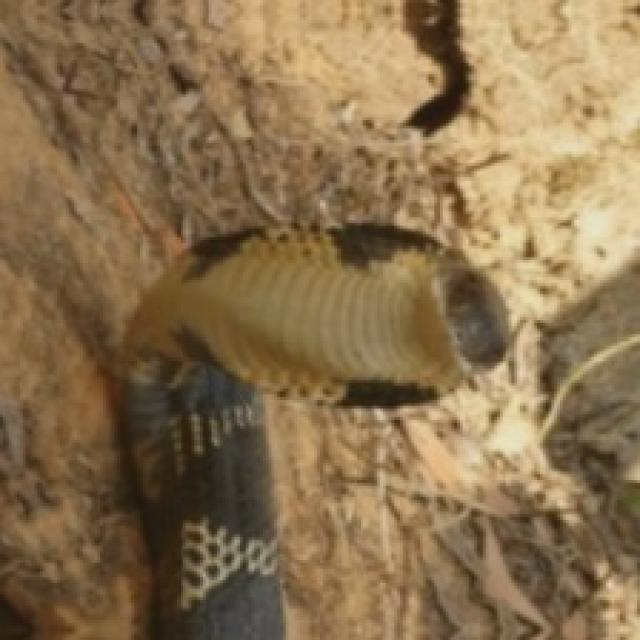king cobra: (120, 223, 506, 637)
